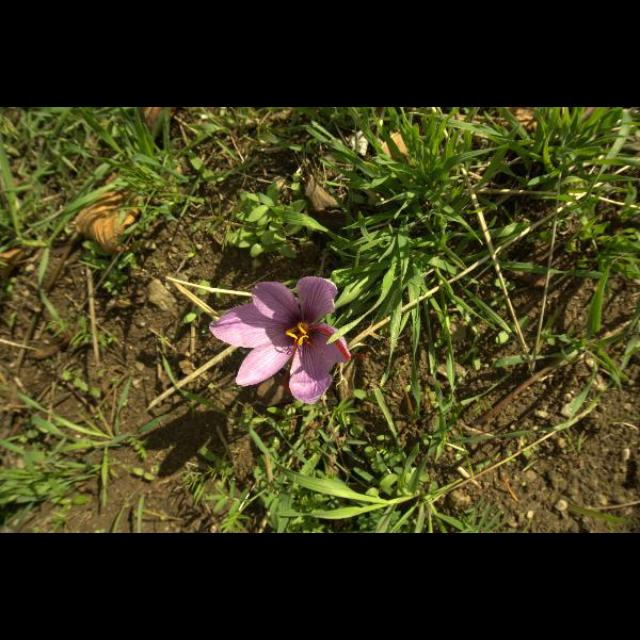flower: (208, 276, 352, 404)
